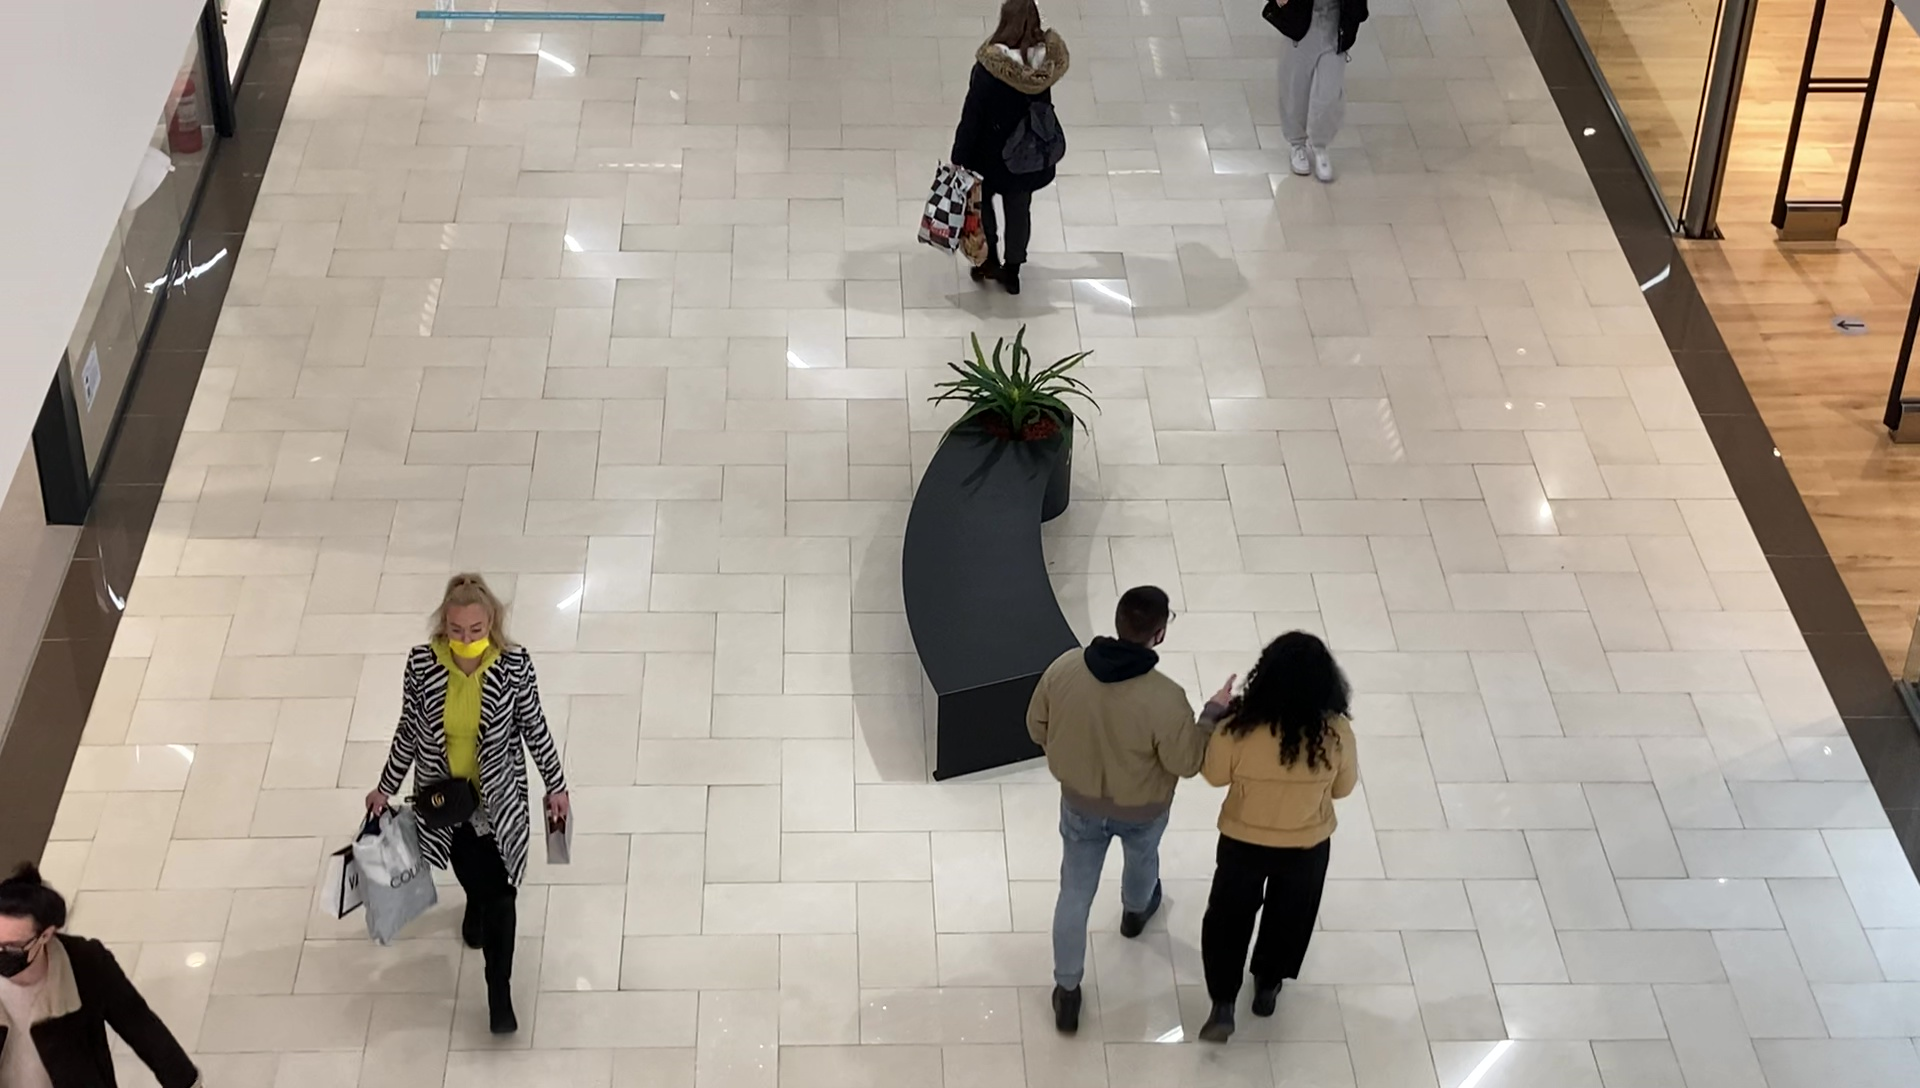person: (364, 573, 575, 1042), (1023, 587, 1207, 1038), (1202, 630, 1359, 1043), (953, 1, 1070, 295), (1263, 1, 1365, 182)
